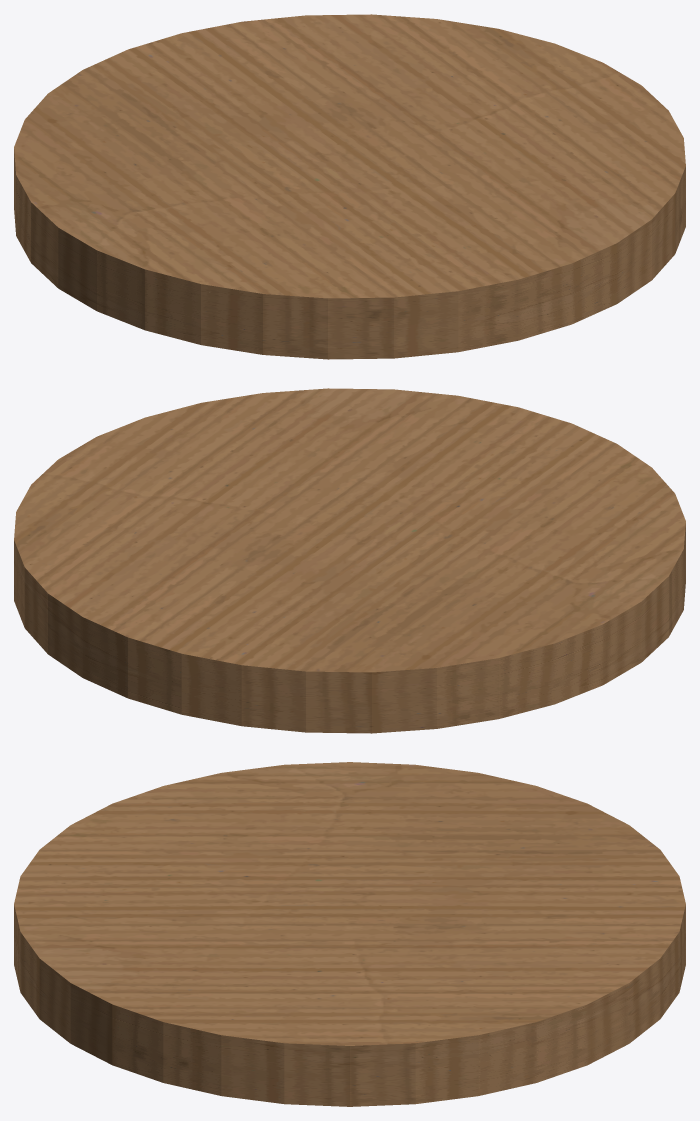
File: table.obj
3 renders of one model, top to bottom at view 1: azimuth 30°, elevation 25°; view 2: azimuth 150°, elevation 25°; view 3: azimuth 270°, elevation 25°, orthographic.
Parts seen in each view (by area): view 1: Cylinder; view 2: Cylinder; view 3: Cylinder.
Boxes of the visible parts, x1,y1,x2,y2 form: Cylinder: [14, 14, 685, 359]; Cylinder: [14, 388, 685, 733]; Cylinder: [14, 762, 685, 1106].
Size of the model in its own units: 2 by 0.2 by 2.
1 material, 1 textured.
